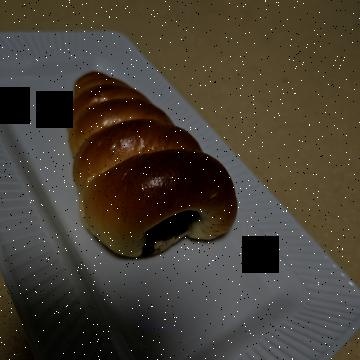cream horn: (67, 118, 280, 306)
